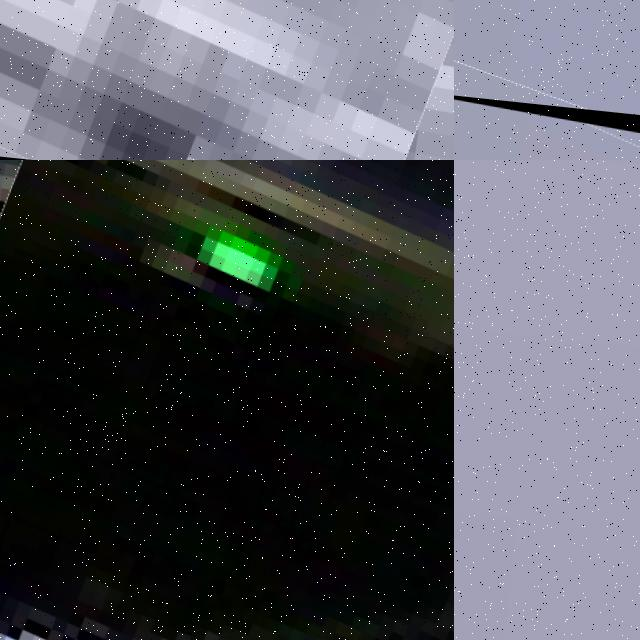0: (0, 0, 454, 160), (454, 89, 640, 160)
drone: (0, 160, 454, 640)
